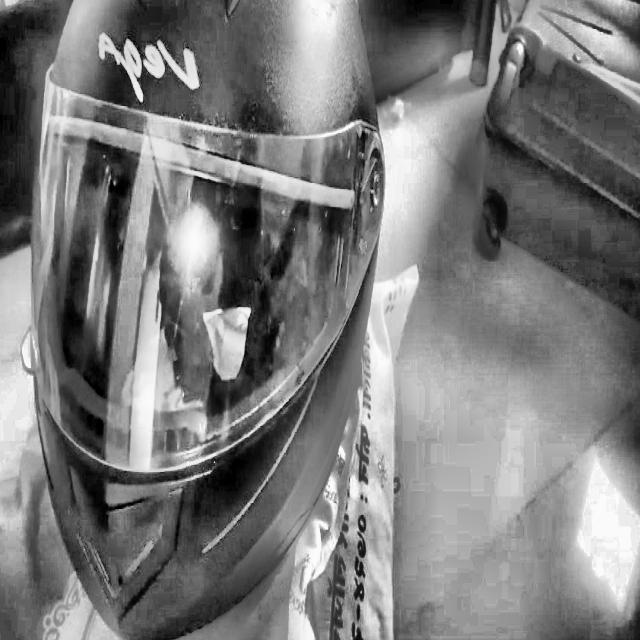Helmet: (29, 0, 387, 640)
